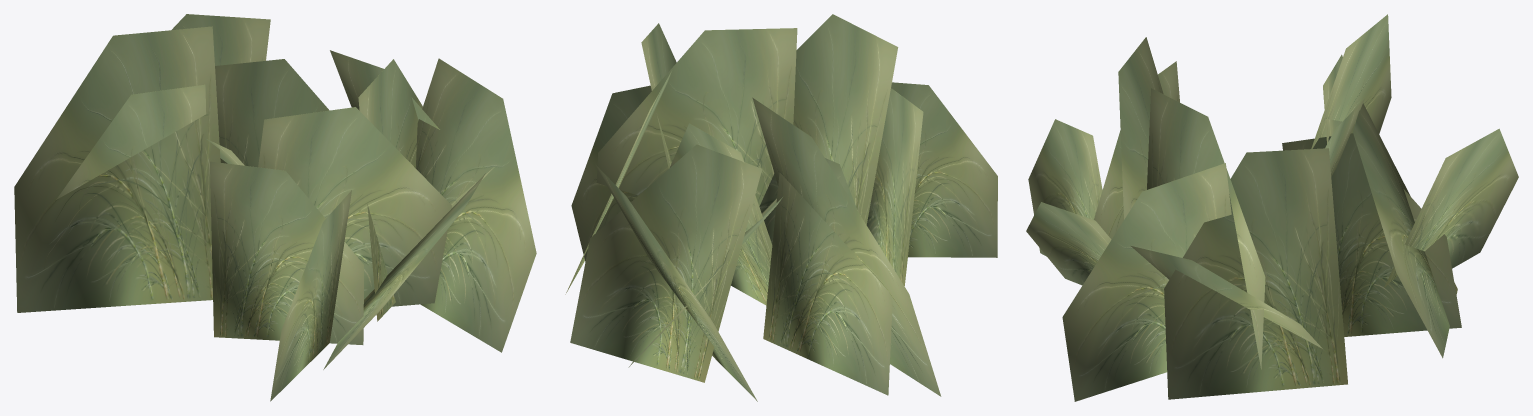
The model's file is grass1.obj.
3 views of the same model, side by side, from view 1: azimuth 30°, elevation 25°; view 2: azimuth 150°, elevation 25°; view 3: azimuth 270°, elevation 25° (orthographic). The views are drawn at different scales.
Visible parts, largest first — view 1: grass; view 2: grass; view 3: grass.
Part boxes in pixels (left/top/right/bottom): grass: left=14, top=14, right=536, bottom=401; grass: left=565, top=14, right=997, bottom=401; grass: left=1026, top=14, right=1518, bottom=401.
Bounding box in the file's own units: 5.68 × 3.5 × 5.7.
Materials: 1 (1 with a texture image).
